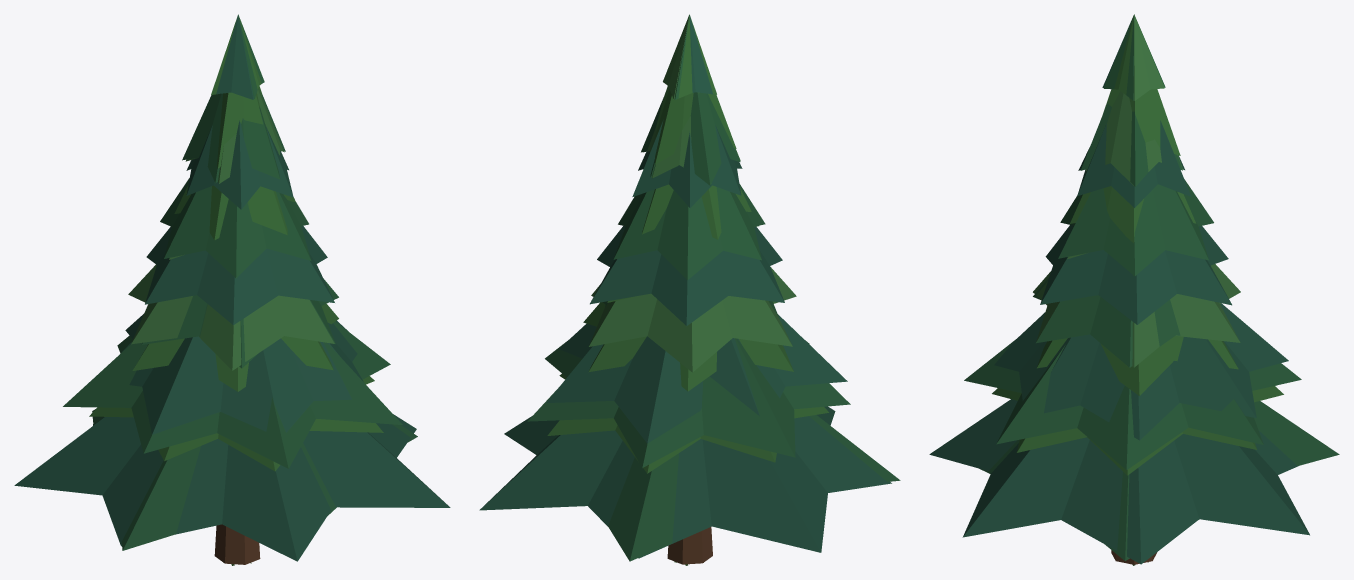
Rendered from nature.glb.
3 views of the same model, side by side, from view 1: azimuth 30°, elevation 25°; view 2: azimuth 150°, elevation 25°; view 3: azimuth 270°, elevation 25° (orthographic).
Visible parts, largest first — view 1: Pine2, Pine0, Pine1, Pine3; view 2: Pine2, Pine0, Pine3, Pine1; view 3: Pine2, Pine0, Pine1, Pine3.
Boxes of the visible parts, box(x1,y1,x2,y2) form: Pine2: box(14, 14, 450, 561); Pine0: box(63, 16, 417, 564); Pine1: box(89, 17, 383, 471); Pine3: box(128, 60, 334, 370); Pine2: box(479, 15, 891, 558); Pine0: box(527, 16, 900, 564); Pine3: box(588, 15, 796, 372); Pine1: box(547, 14, 828, 473); Pine2: box(929, 22, 1309, 564); Pine0: box(964, 14, 1339, 564); Pine1: box(992, 15, 1283, 475); Pine3: box(1033, 15, 1275, 385).
Bounding box in the file's own units: 2.99 × 4.33 × 2.96.
